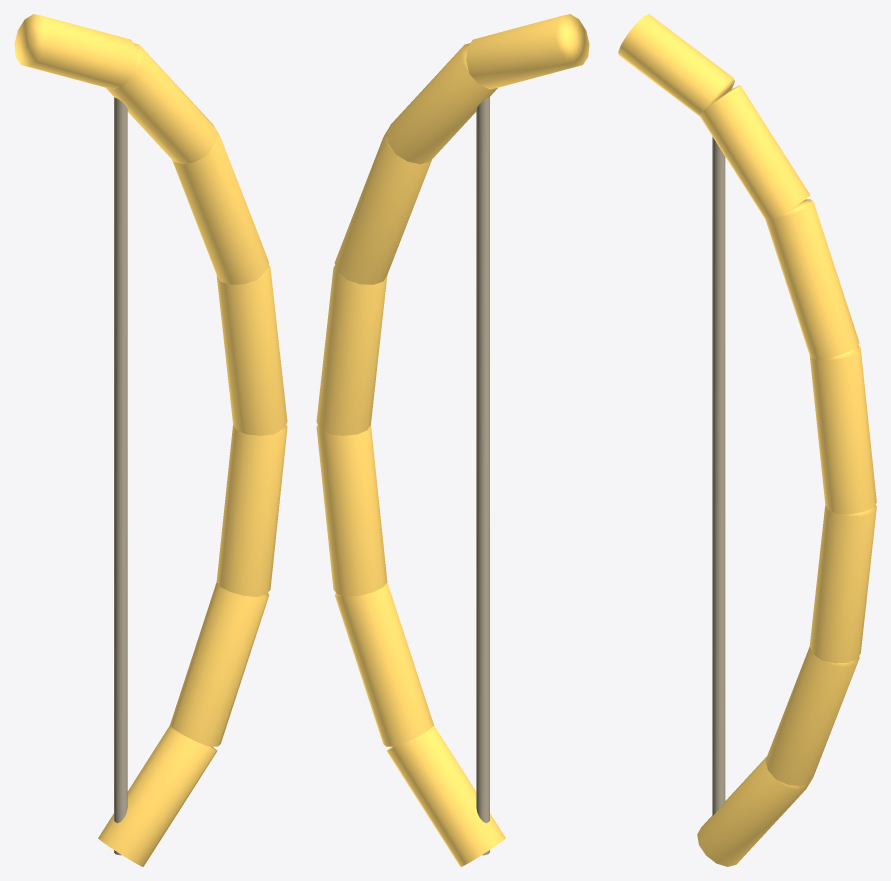
File: bow.glb
The picture shows the model from 3 angles, left to right: view 1: azimuth 30°, elevation 25°; view 2: azimuth 150°, elevation 25°; view 3: azimuth 330°, elevation 25°; orthographic projection. The views are drawn at different scales.
Parts seen in each view (by area): view 1: bowstring, bow_limb_2, bow_limb_3, bow_limb_1, bow_limb_4, bow_limb_0, bow_limb_6, bow_limb_5; view 2: bowstring, bow_limb_2, bow_limb_3, bow_limb_1, bow_limb_4, bow_limb_0, bow_limb_6, bow_limb_5; view 3: bowstring, bow_limb_3, bow_limb_4, bow_limb_2, bow_limb_5, bow_limb_1, bow_limb_6, bow_limb_0.
Part boxes in pixels (left/top/right/bottom): bowstring: left=114, top=97, right=127, bottom=855; bow_limb_2: left=216, top=425, right=287, bottom=596; bow_limb_3: left=216, top=265, right=287, bottom=435; bow_limb_1: left=170, top=582, right=269, bottom=746; bow_limb_4: left=172, top=130, right=269, bottom=284; bow_limb_0: left=98, top=725, right=217, bottom=866; bow_limb_6: left=14, top=14, right=137, bottom=89; bow_limb_5: left=106, top=43, right=217, bottom=164; bowstring: left=476, top=97, right=489, bottom=855; bow_limb_2: left=316, top=425, right=387, bottom=596; bow_limb_3: left=316, top=265, right=387, bottom=435; bow_limb_1: left=334, top=582, right=433, bottom=746; bow_limb_4: left=334, top=130, right=431, bottom=284; bow_limb_0: left=386, top=725, right=505, bottom=866; bow_limb_6: left=466, top=14, right=589, bottom=89; bow_limb_5: left=386, top=43, right=497, bottom=164; bowstring: left=712, top=136, right=725, bottom=815; bow_limb_3: left=809, top=345, right=876, bottom=514; bow_limb_4: left=765, top=199, right=859, bottom=359; bow_limb_2: left=809, top=504, right=876, bottom=663; bow_limb_5: left=700, top=85, right=810, bottom=220; bow_limb_1: left=765, top=647, right=859, bottom=786; bow_limb_6: left=618, top=14, right=734, bottom=116; bow_limb_0: left=697, top=756, right=809, bottom=866.
Bounding box in the file's own units: 0.2674 × 0.8473 × 0.048.
